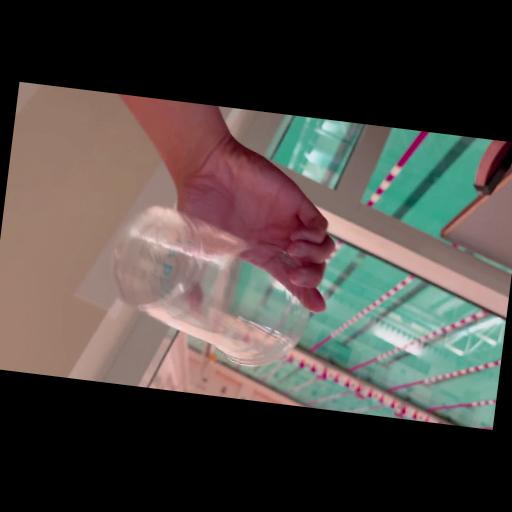lp_plastic_cup: (64, 194, 352, 383)
